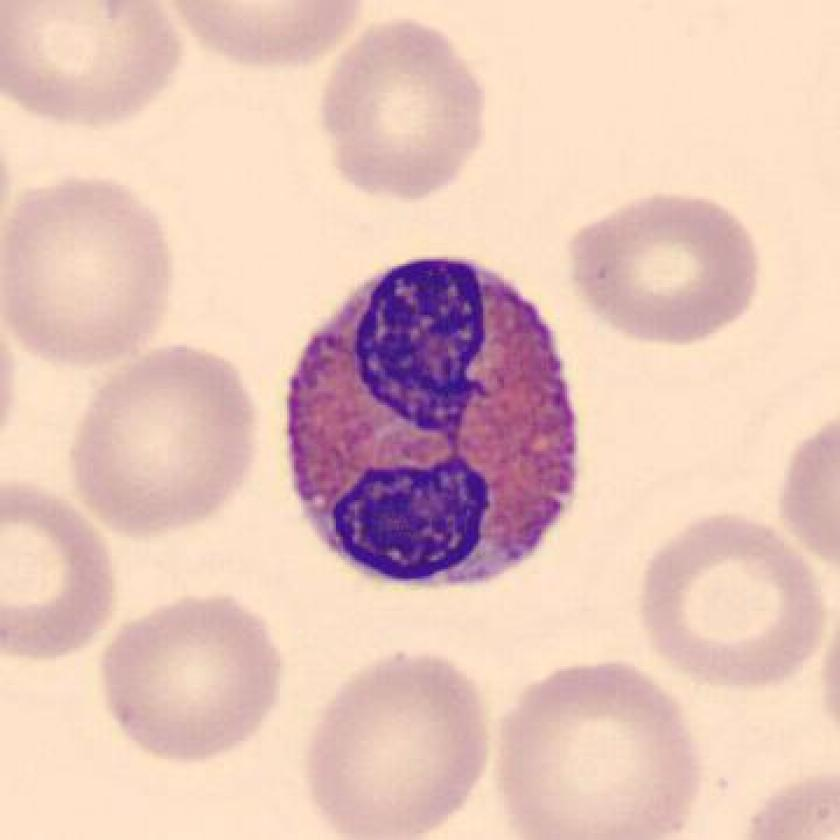eosinophil: (274, 242, 594, 600)
